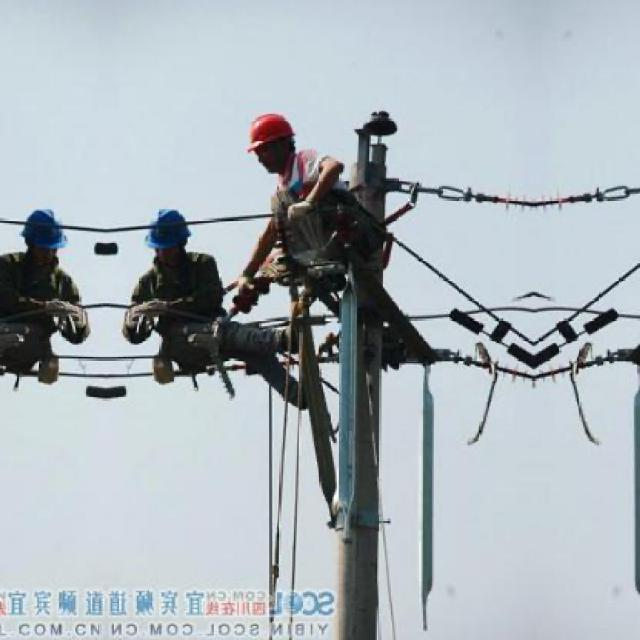helmet: (248, 104, 303, 178), (144, 206, 193, 260), (20, 206, 69, 260)
